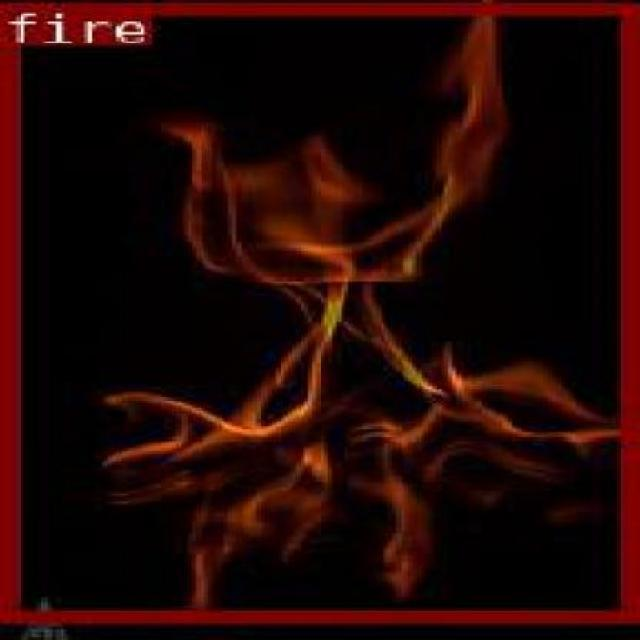Fire: (33, 34, 627, 618)
